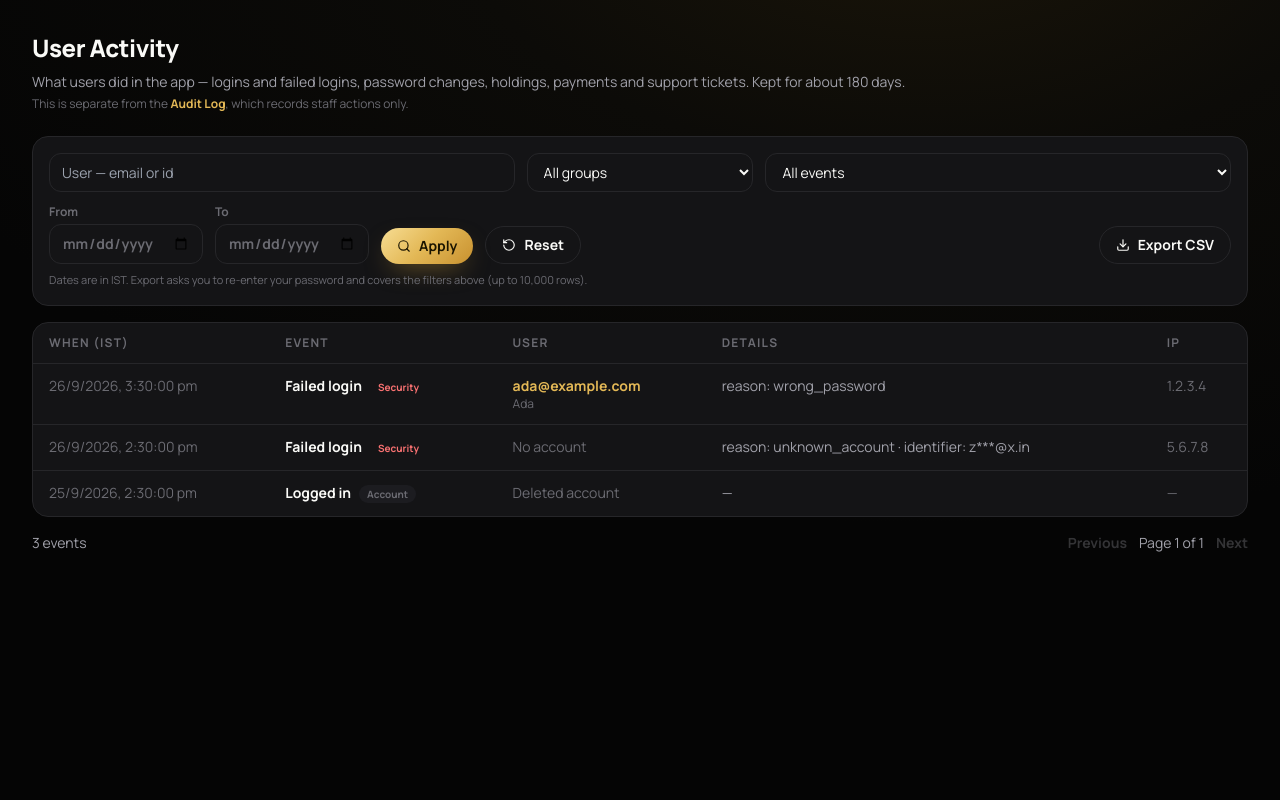
Test case: admin UserActivity › CSV export › shows the backend's message when the export is refused (e.g. no export permission)
Expected: the table with test id "admin-activity-table" is shown, left=33, top=322, right=1247, bottom=516
Click the button with test id "admin-activity-export-btn".
click(1165, 245)  # box left=1099, top=226, right=1231, bottom=264
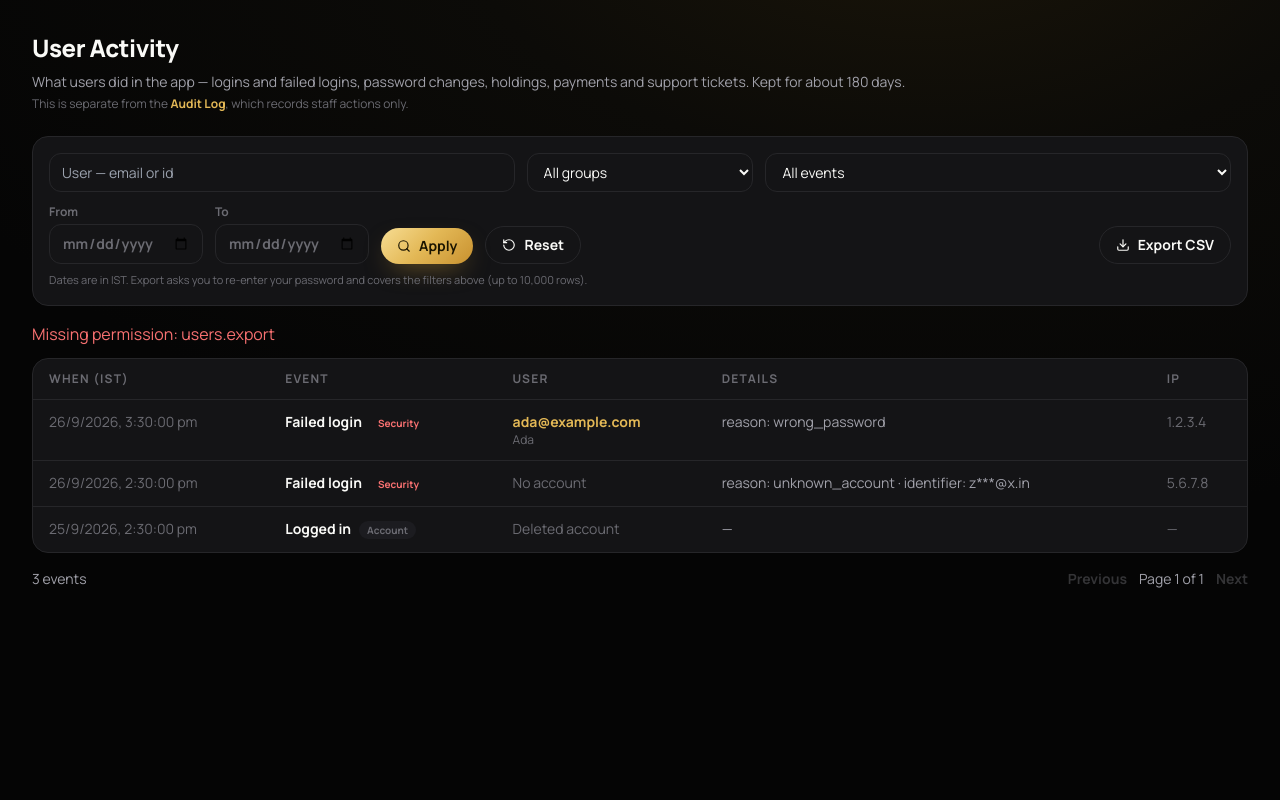
Now the text with test id "admin-activity-error" reads "Missing permission: users.export", box left=32, top=322, right=275, bottom=344
